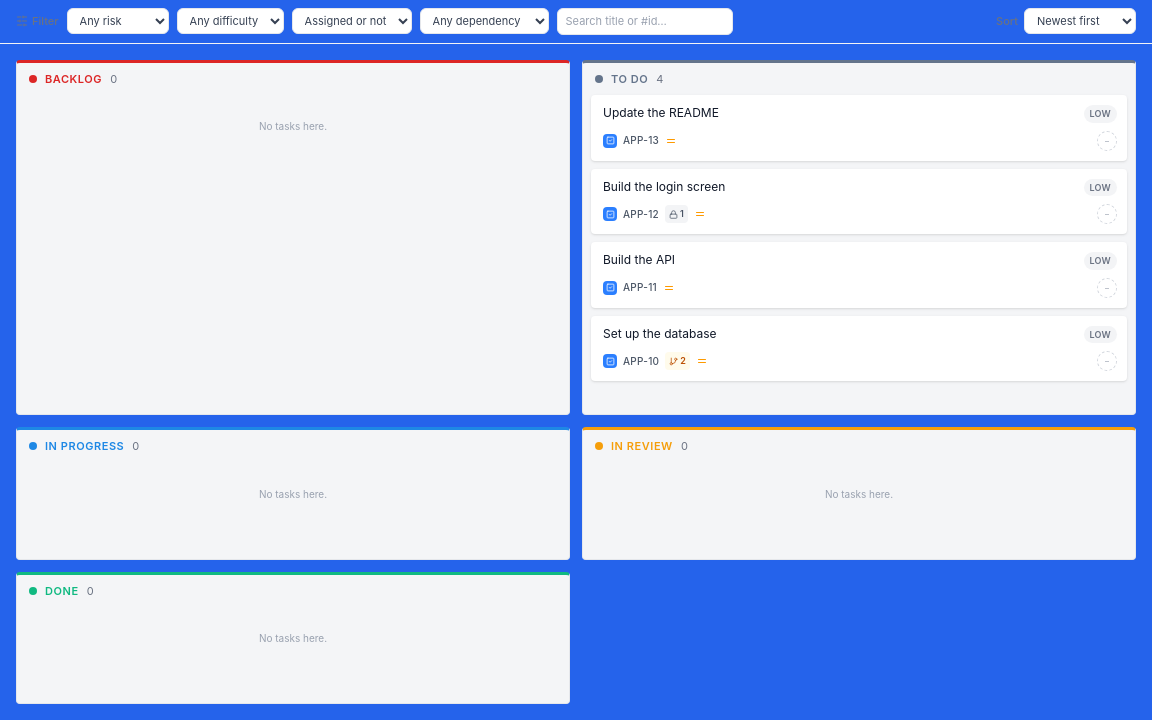
KanbanBoard dependency ordering › stops treating a prerequisite as a blocker once it is done
Check: the text "Set up the database" is shown, box [603,326,717,340]
Select "Ready to start" in the dropdown named "Filter by dependency" at [484, 21], box [420,8,548,34]
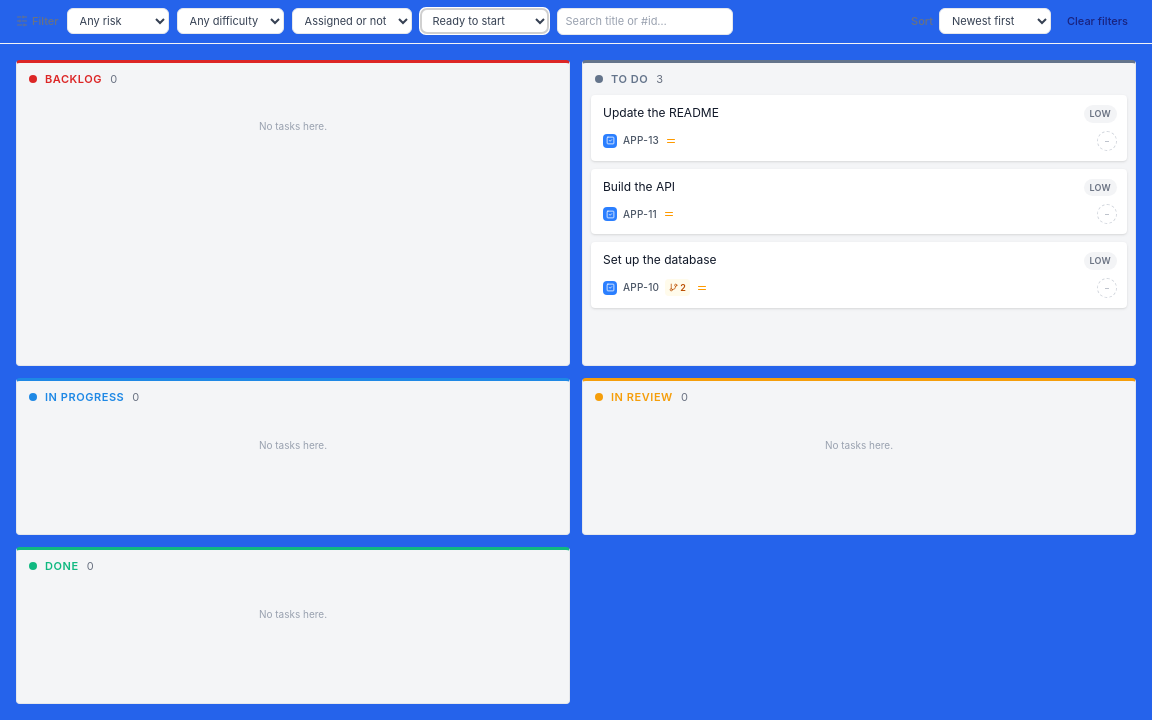
Check: the text "Build the API" is shown, box [603,178,675,194]
Check: the button "Build the login screen" is gone
